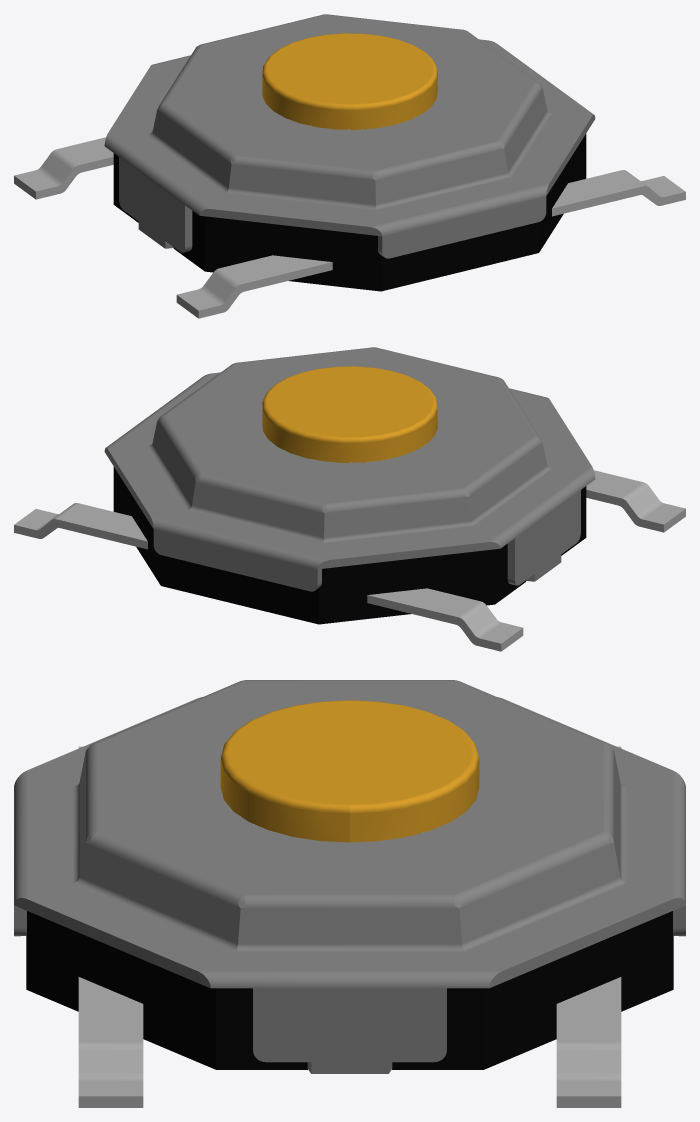
File: kc-sw_spst_tl3342.glb
3 views of the same model, one above another, from view 1: azimuth 30°, elevation 25°; view 2: azimuth 150°, elevation 25°; view 3: azimuth 270°, elevation 25° (orthographic). The views are drawn at different scales.
Parts seen in each view (by area): view 1: 0.25_0.25_0.25_0, 0_0_0_0, 0.6666666666666666_0.3333333333333333_0_0, 0.4166666666666667_0.4166666666666667_0.4166666666666667_0; view 2: 0.25_0.25_0.25_0, 0_0_0_0, 0.6666666666666666_0.3333333333333333_0_0, 0.4166666666666667_0.4166666666666667_0.4166666666666667_0; view 3: 0.25_0.25_0.25_0, 0_0_0_0, 0.6666666666666666_0.3333333333333333_0_0, 0.4166666666666667_0.4166666666666667_0.4166666666666667_0.
Boxes of the visible parts, box(x1,y1,x2,y2) form: 0.25_0.25_0.25_0: box(104, 14, 595, 258); 0_0_0_0: box(113, 134, 586, 291); 0.6666666666666666_0.3333333333333333_0_0: box(262, 33, 437, 129); 0.4166666666666667_0.4166666666666667_0.4166666666666667_0: box(14, 137, 685, 318); 0.25_0.25_0.25_0: box(104, 347, 595, 591); 0_0_0_0: box(113, 467, 586, 624); 0.6666666666666666_0.3333333333333333_0_0: box(262, 366, 437, 462); 0.4166666666666667_0.4166666666666667_0.4166666666666667_0: box(14, 470, 685, 651); 0.25_0.25_0.25_0: box(14, 680, 685, 1073); 0_0_0_0: box(26, 911, 673, 1069); 0.6666666666666666_0.3333333333333333_0_0: box(220, 700, 479, 842); 0.4166666666666667_0.4166666666666667_0.4166666666666667_0: box(78, 746, 621, 1107).
Size of the model in its own units: 0.64 by 0.154 by 0.52.
